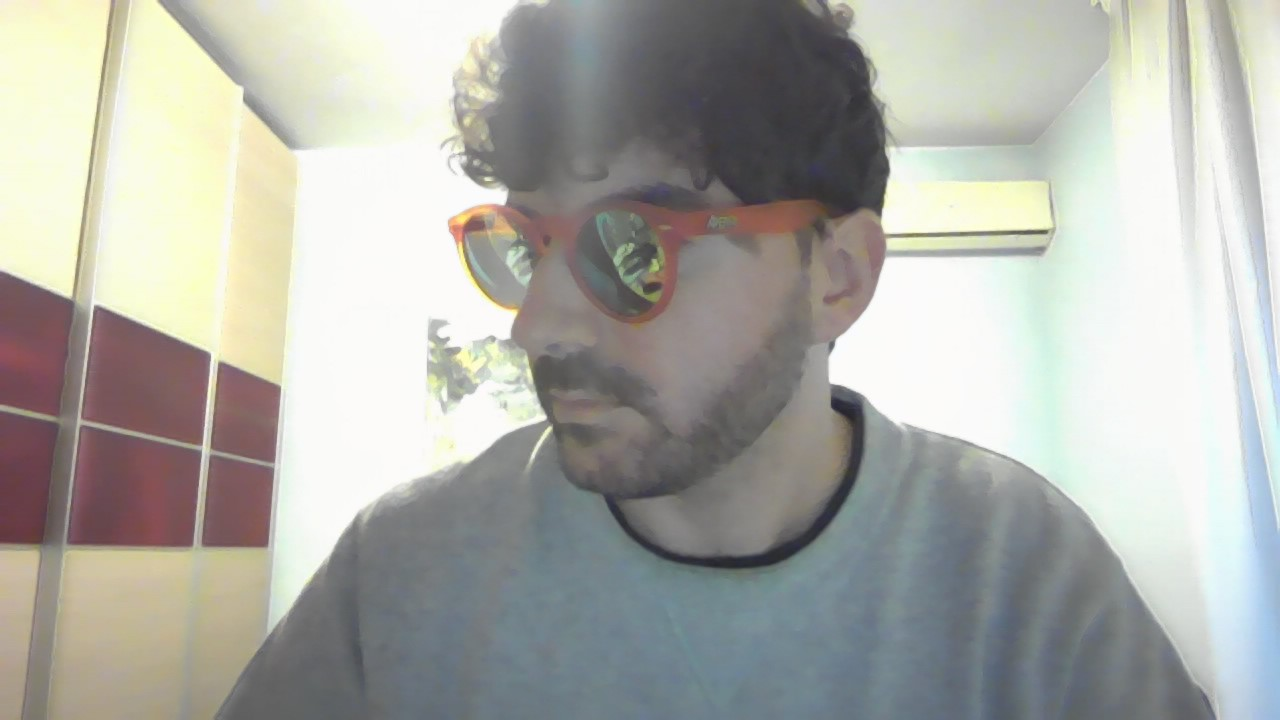Glasses: (435, 194, 867, 311)
